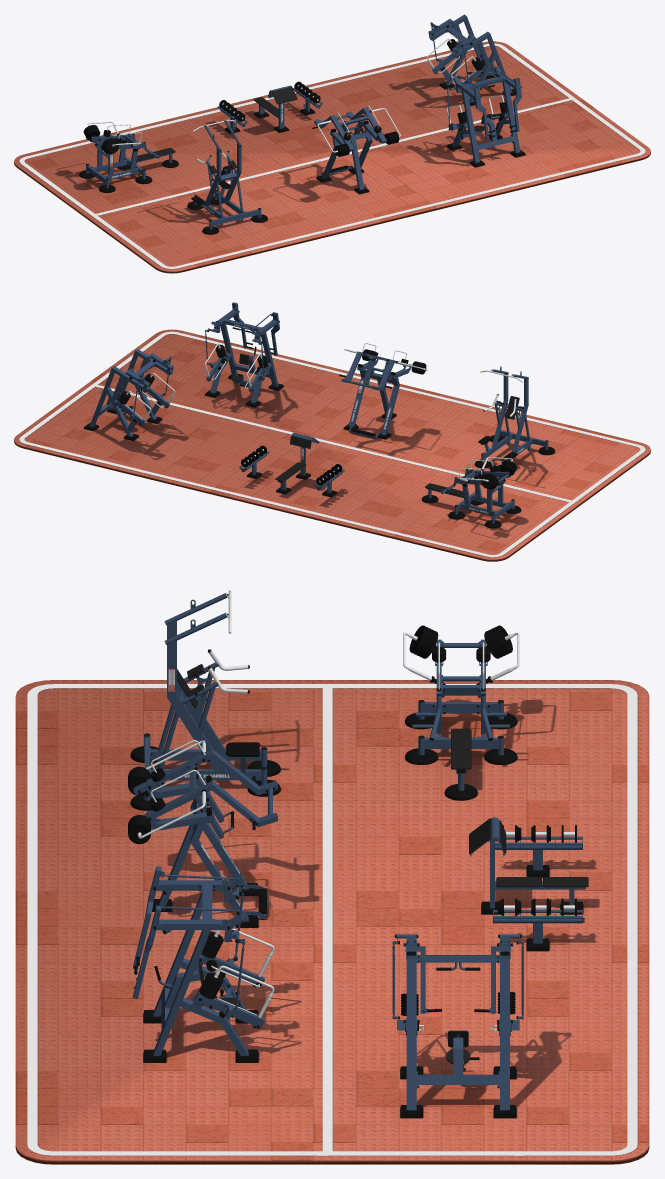
File: small.glb
The picture shows the model from 3 angles, top to bottom: view 1: azimuth 30°, elevation 25°; view 2: azimuth 150°, elevation 25°; view 3: azimuth 270°, elevation 25°; orthographic projection. The views are drawn at different scales.
Parts seen in each view (by area): view 1: Cube.005, Cube.006, Element_2.072, Blue metal.001, Element_2.063, blue_metal.007, Element_2.045, accent.020, accent.014, accent.019, Element_1.094, Element_1.100 (+5 smaller); view 2: Cube.005, Cube.006, Element_2.063, Element_2.072, Blue metal.001, blue_metal.007, Element_2.045, accent.020, accent.014, accent.019, Element_1.094, black_metal.009 (+5 smaller); view 3: Cube.005, Cube.006, Blue metal.001, Element_2.072, Element_2.063, accent.020, accent.014, Element_1.094, Element_2.045, blue_metal.007, accent.019, legs.007 (+13 smaller).
Boxes of the visible parts, x1,y1,x2,y2 form: Cube.005: [14, 41, 650, 273]; Cube.006: [19, 43, 645, 268]; Element_2.072: [452, 72, 521, 162]; Blue metal.001: [194, 120, 261, 229]; Element_2.063: [428, 14, 512, 102]; blue_metal.007: [86, 138, 173, 188]; Element_2.045: [321, 124, 384, 189]; accent.020: [447, 66, 521, 139]; accent.014: [314, 107, 386, 174]; accent.019: [429, 19, 485, 84]; Element_1.094: [217, 85, 322, 129]; Element_1.100: [253, 86, 297, 116]; Cube.005: [14, 329, 650, 561]; Cube.006: [19, 331, 645, 557]; Element_2.063: [89, 349, 173, 436]; Element_2.072: [210, 309, 279, 403]; Blue metal.001: [481, 366, 548, 464]; blue_metal.007: [426, 474, 514, 523]; Element_2.045: [348, 359, 411, 435]; accent.020: [205, 302, 279, 391]; accent.014: [341, 351, 411, 438]; accent.019: [117, 353, 172, 426]; Element_1.094: [239, 433, 344, 493]; black_metal.009: [461, 460, 516, 489]; Cube.005: [15, 680, 649, 1164]; Cube.006: [27, 684, 637, 1155]; Blue metal.001: [144, 593, 267, 800]; Element_2.072: [152, 880, 248, 1055]; Element_2.063: [405, 942, 510, 1110]; accent.020: [133, 866, 264, 1028]; accent.014: [133, 749, 277, 918]; Element_1.094: [470, 817, 585, 943]; Element_2.045: [146, 779, 248, 921]; blue_metal.007: [418, 662, 503, 790]; accent.019: [392, 934, 523, 1037]; legs.007: [405, 713, 517, 800].
Size of what is drawn, in the model's own units: 13.63 by 2.41 by 7.59.
43 materials, 10 textured.
